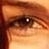eye: (19, 18, 33, 27)
